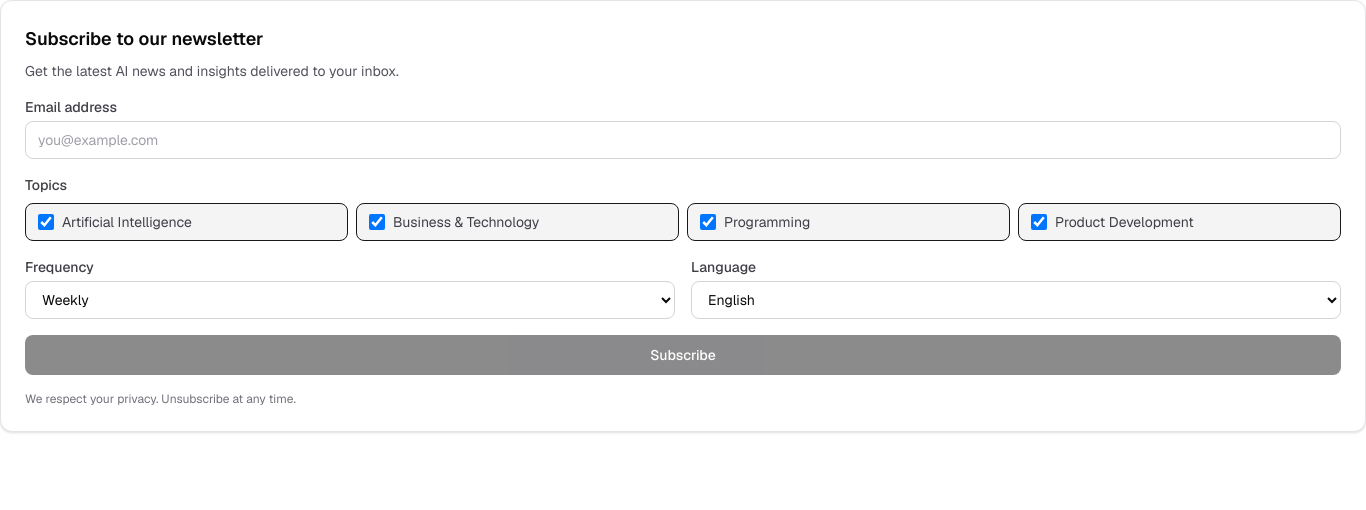
Scenario: SubscribeForm › shows error on network failure
Step 1. Type "user@example.com" into the field labelled "Email address" → point(683, 140), box 25,121 -> 1341,159
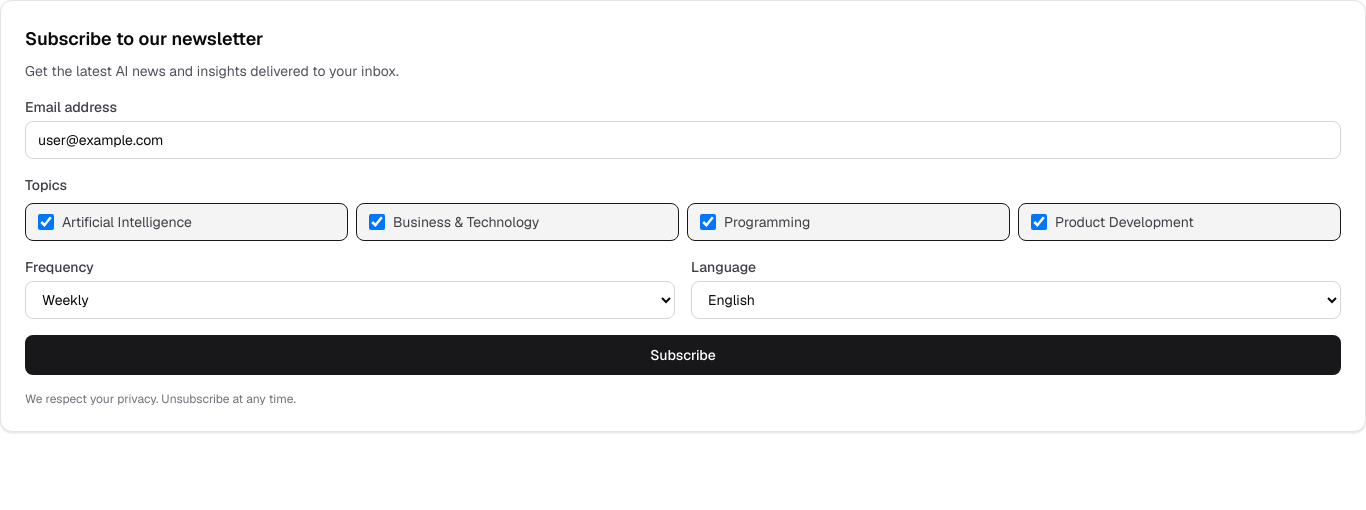
Step 2. Click the button "Subscribe" → point(683, 355), box 25,335 -> 1341,375
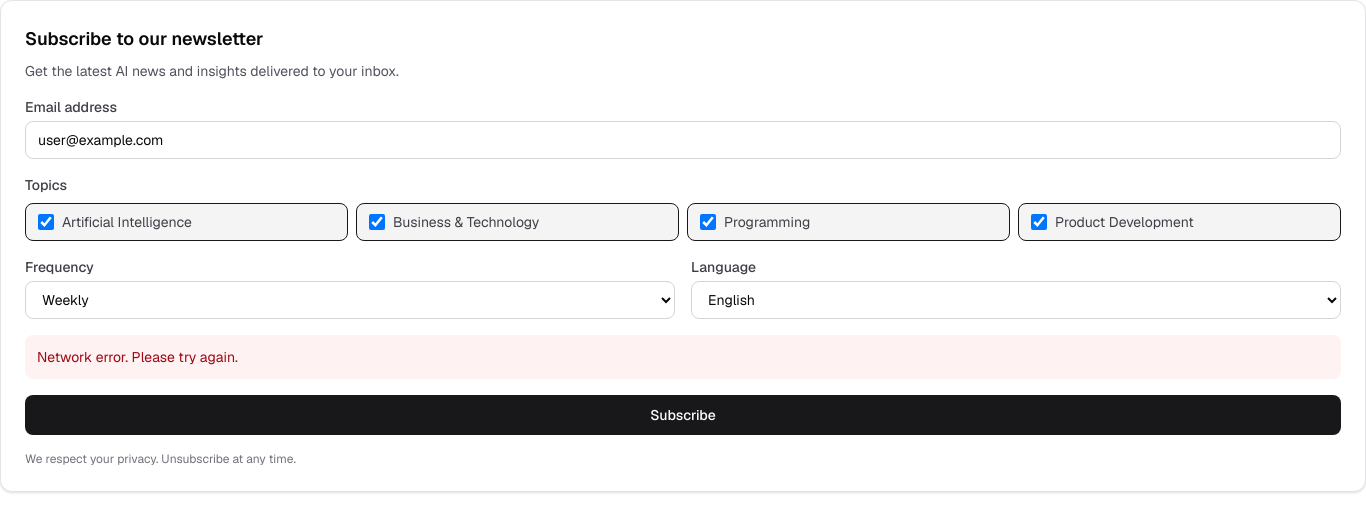
expect the text "Network error. Please try again." is shown: met, box 25,335 -> 1341,379
